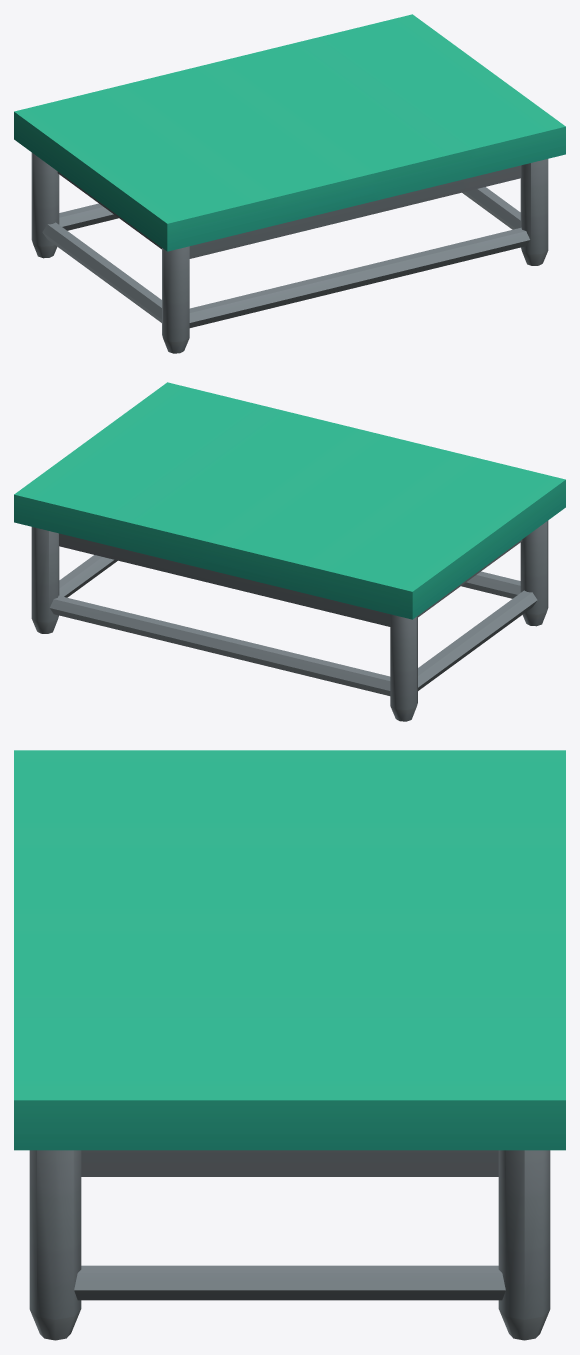
The model's file is kaykit-restaurant-bits-kitchentable-b-large.glb.
3 renders of one model, top to bottom at view 1: azimuth 30°, elevation 25°; view 2: azimuth 150°, elevation 25°; view 3: azimuth 270°, elevation 25°, orthographic. The views are drawn at different scales.
Parts seen in each view (by area): view 1: kitchentable_B_large; view 2: kitchentable_B_large; view 3: kitchentable_B_large.
Boxes of the visible parts, x1,y1,x2,y2 form: kitchentable_B_large: [14, 14, 565, 353]; kitchentable_B_large: [14, 382, 565, 721]; kitchentable_B_large: [14, 750, 565, 1340].
Bounding box in the file's own units: 3 × 1 × 2.
1 material, 1 textured.
